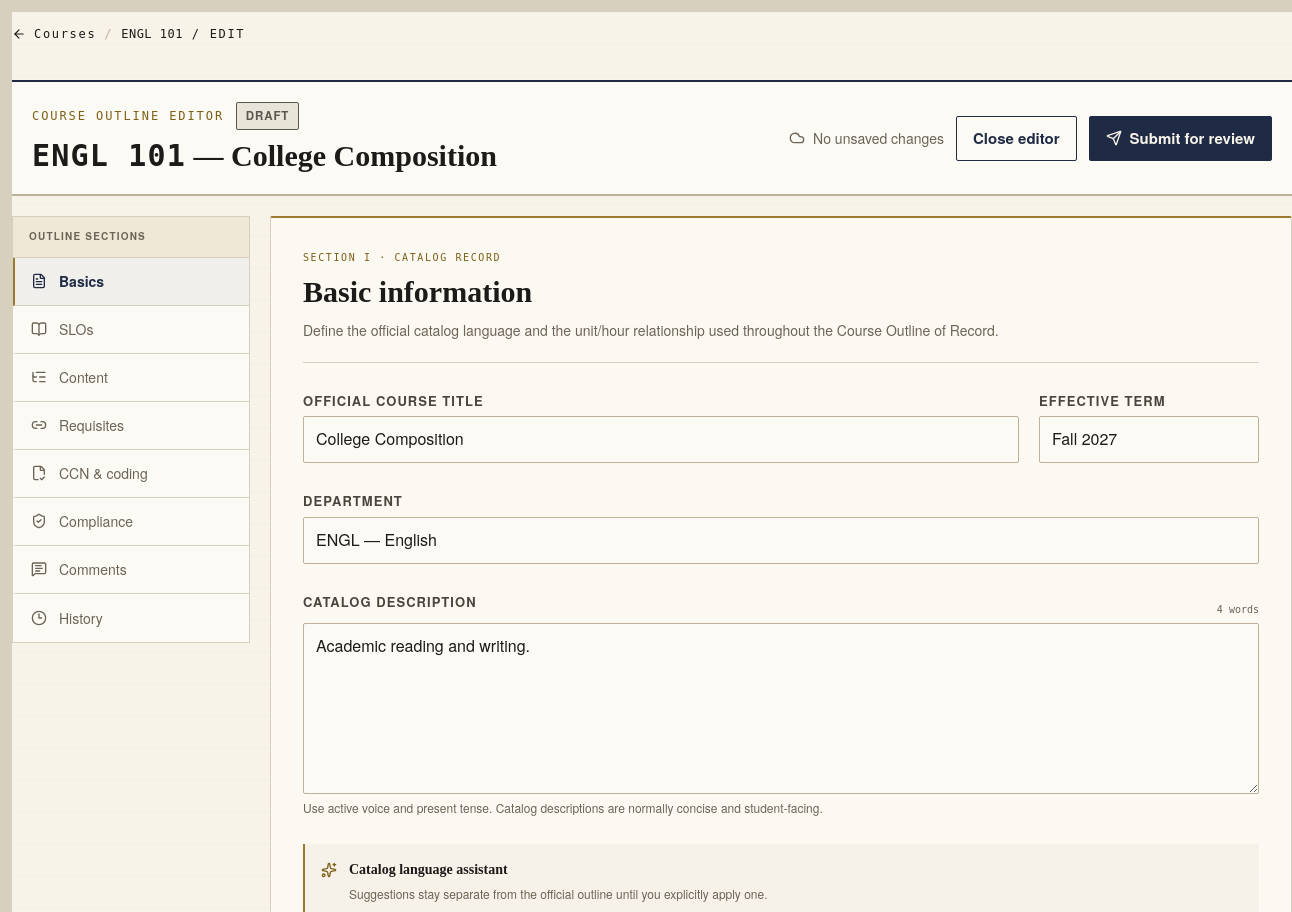
CourseEditor autosave › reports a failed submission in the same alert the save errors use
Click the button "Submit for review" at (1180, 138), box 1089,116 -> 1272,160
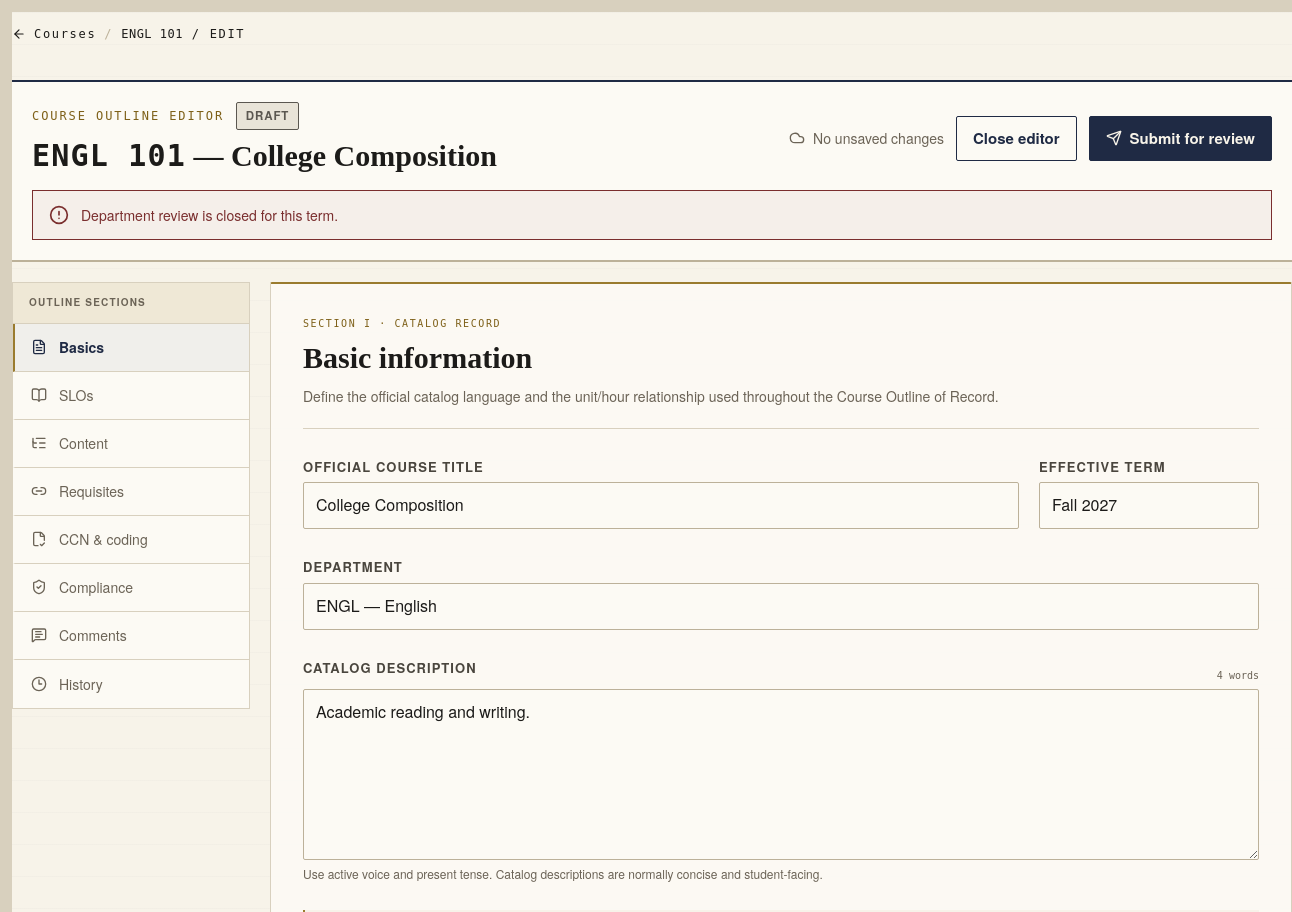
Check: the message "Department review is closed for this term." is shown, box 32,190 -> 1272,240
